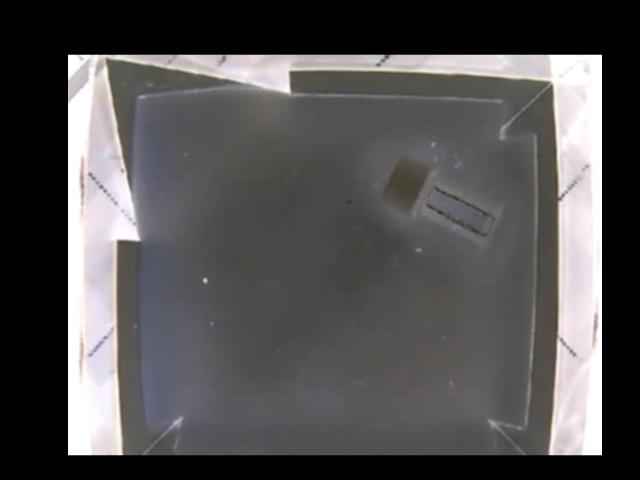Bottle: (382, 153, 505, 248)
